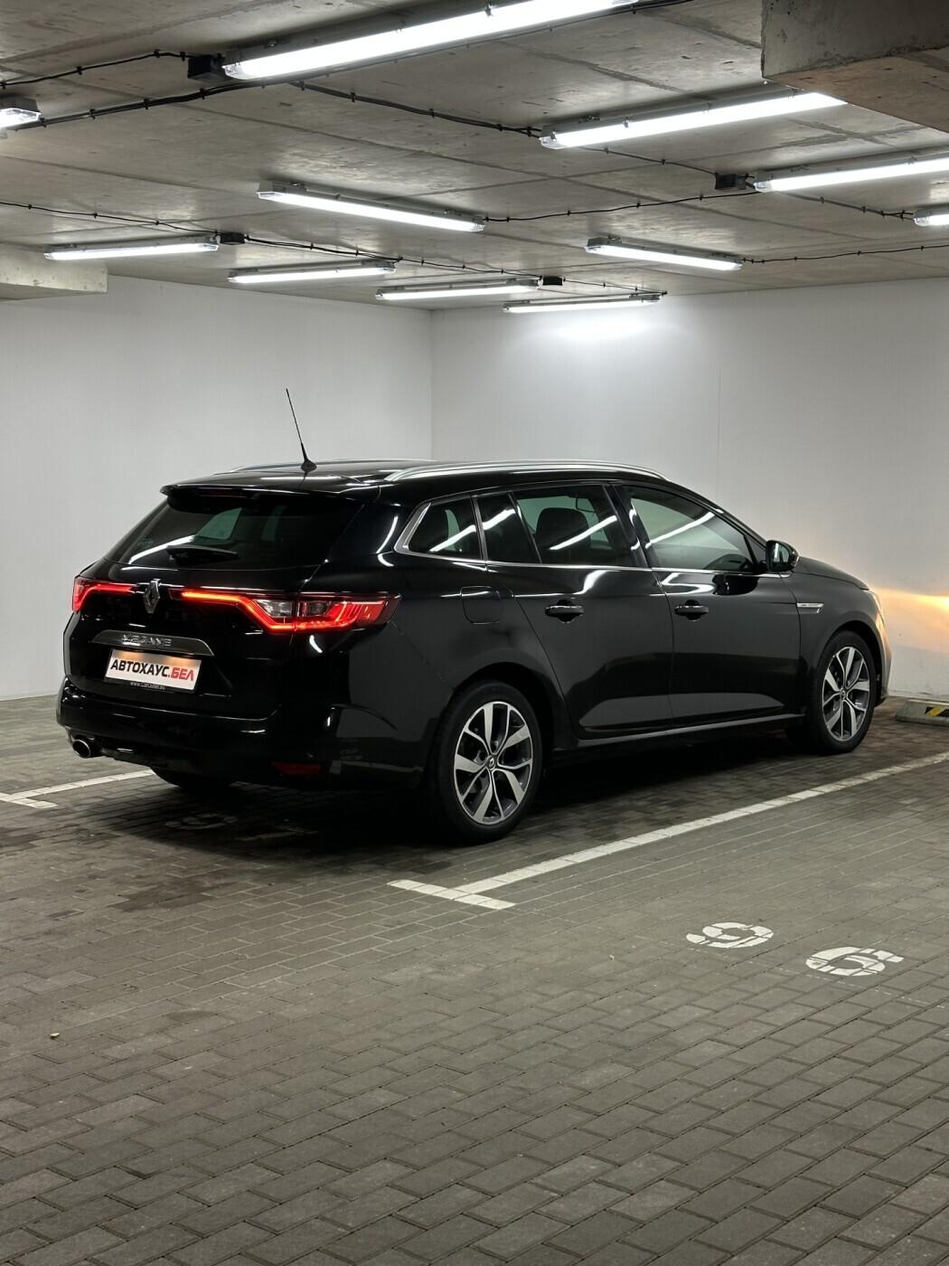Megane_2016-2020: (51, 459, 907, 843)
